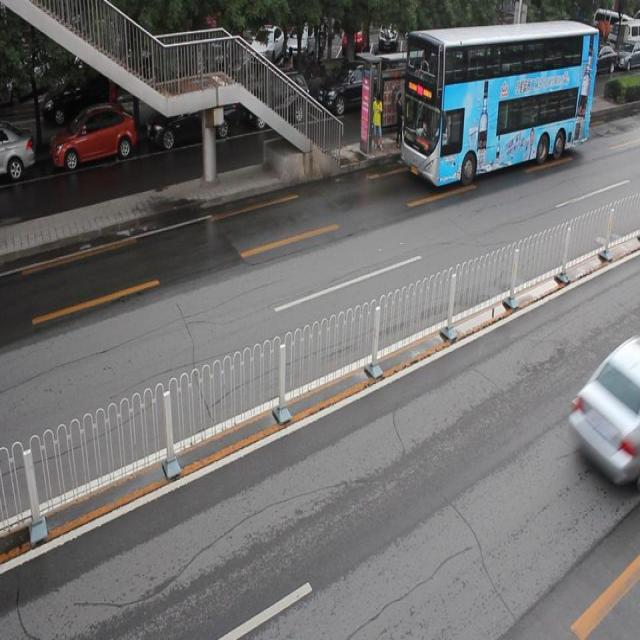car: (565, 331, 640, 487), (50, 105, 136, 172), (145, 93, 237, 152), (314, 63, 389, 123), (244, 72, 307, 128), (1, 124, 34, 181)
van: (398, 21, 598, 188)
